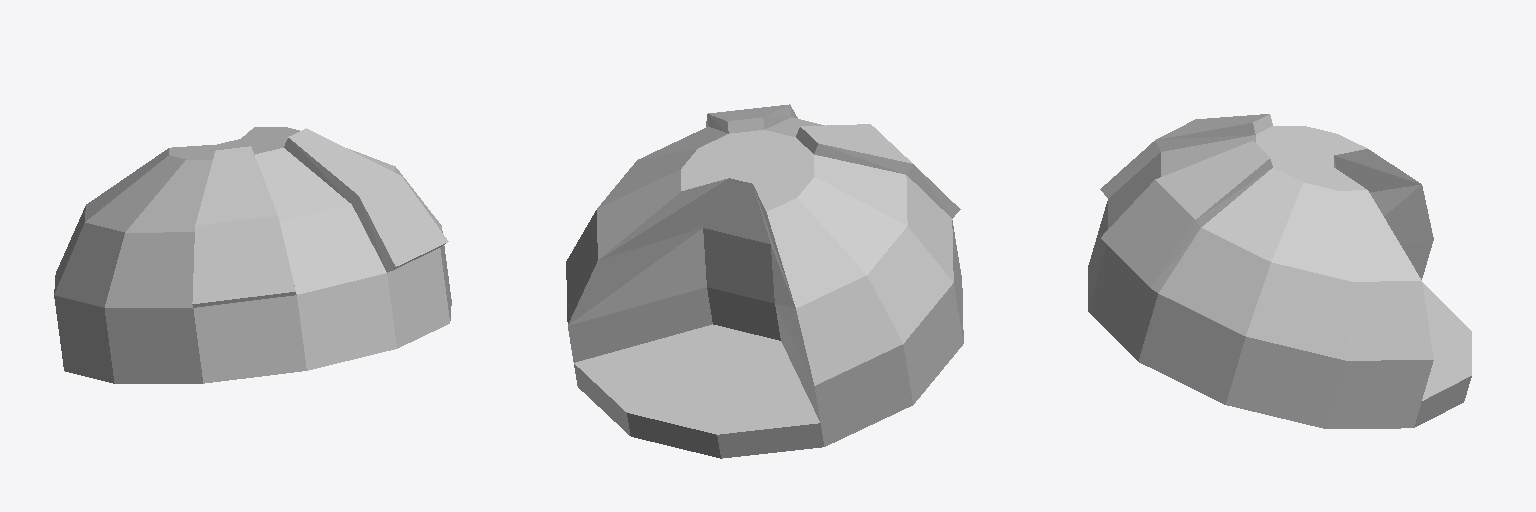
File: Rearturret.obj
3 renders of one model, left to right at view 1: azimuth 30°, elevation 25°; view 2: azimuth 150°, elevation 25°; view 3: azimuth 270°, elevation 25°, orthographic.
Parts seen in each view (by area): view 1: RearTurret; view 2: RearTurret; view 3: RearTurret.
Part boxes in pixels (x1,y1,x2,y2): RearTurret: (54, 127, 451, 383); RearTurret: (566, 104, 963, 458); RearTurret: (1088, 114, 1471, 428).
Size of the model in its own units: 29.19 by 20.56 by 28.8.